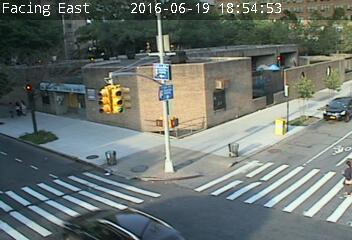neg: (111, 187, 135, 220), (161, 171, 176, 190), (222, 86, 236, 105), (54, 156, 66, 173), (154, 85, 166, 101), (223, 138, 235, 154), (251, 80, 262, 96), (187, 90, 198, 105), (282, 68, 293, 83), (160, 137, 171, 152), (97, 142, 106, 154)
pos: (332, 159, 351, 196), (16, 99, 29, 116), (4, 99, 17, 116), (11, 100, 23, 115)
